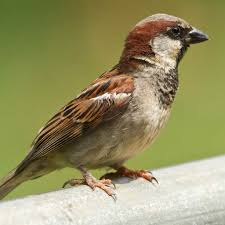hsparrow: (3, 13, 212, 199)
